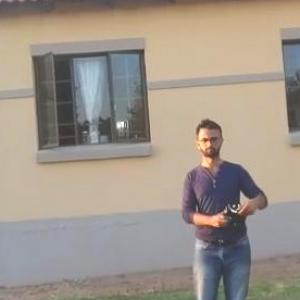follow: (175, 106, 276, 299)
